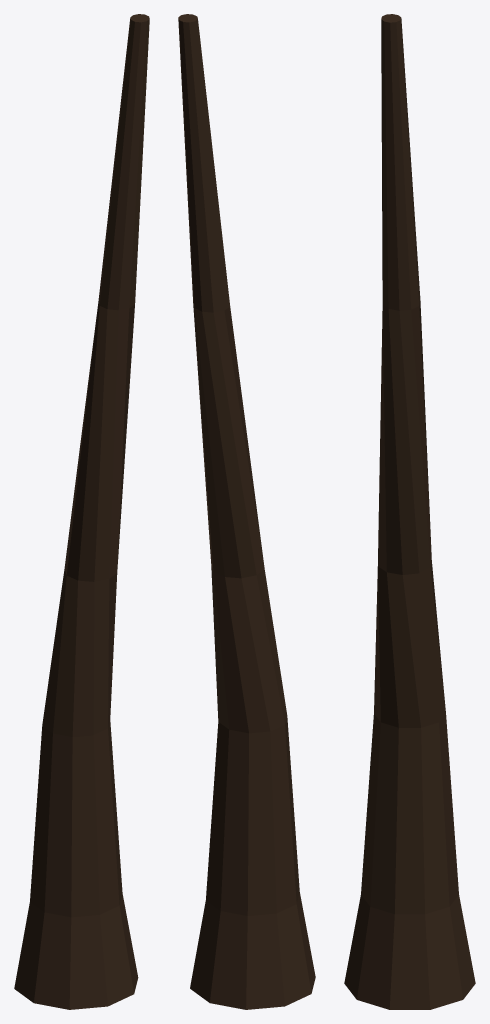
File: TreeNoLeafsV2.fbx
The picture shows the model from 3 angles, left to right: view 1: azimuth 30°, elevation 25°; view 2: azimuth 210°, elevation 25°; view 3: azimuth 270°, elevation 25°; orthographic projection. The views are drawn at different scales.
Parts seen in each view (by area): view 1: Cylinder.001; view 2: Cylinder.001; view 3: Cylinder.001.
Part boxes in pixels (box(x1,y1,x2,y2)): Cylinder.001: box(14, 14, 149, 1009); Cylinder.001: box(178, 14, 315, 1009); Cylinder.001: box(344, 14, 475, 1009).
Size of the model in its own units: 85.99 by 681 by 81.73.
